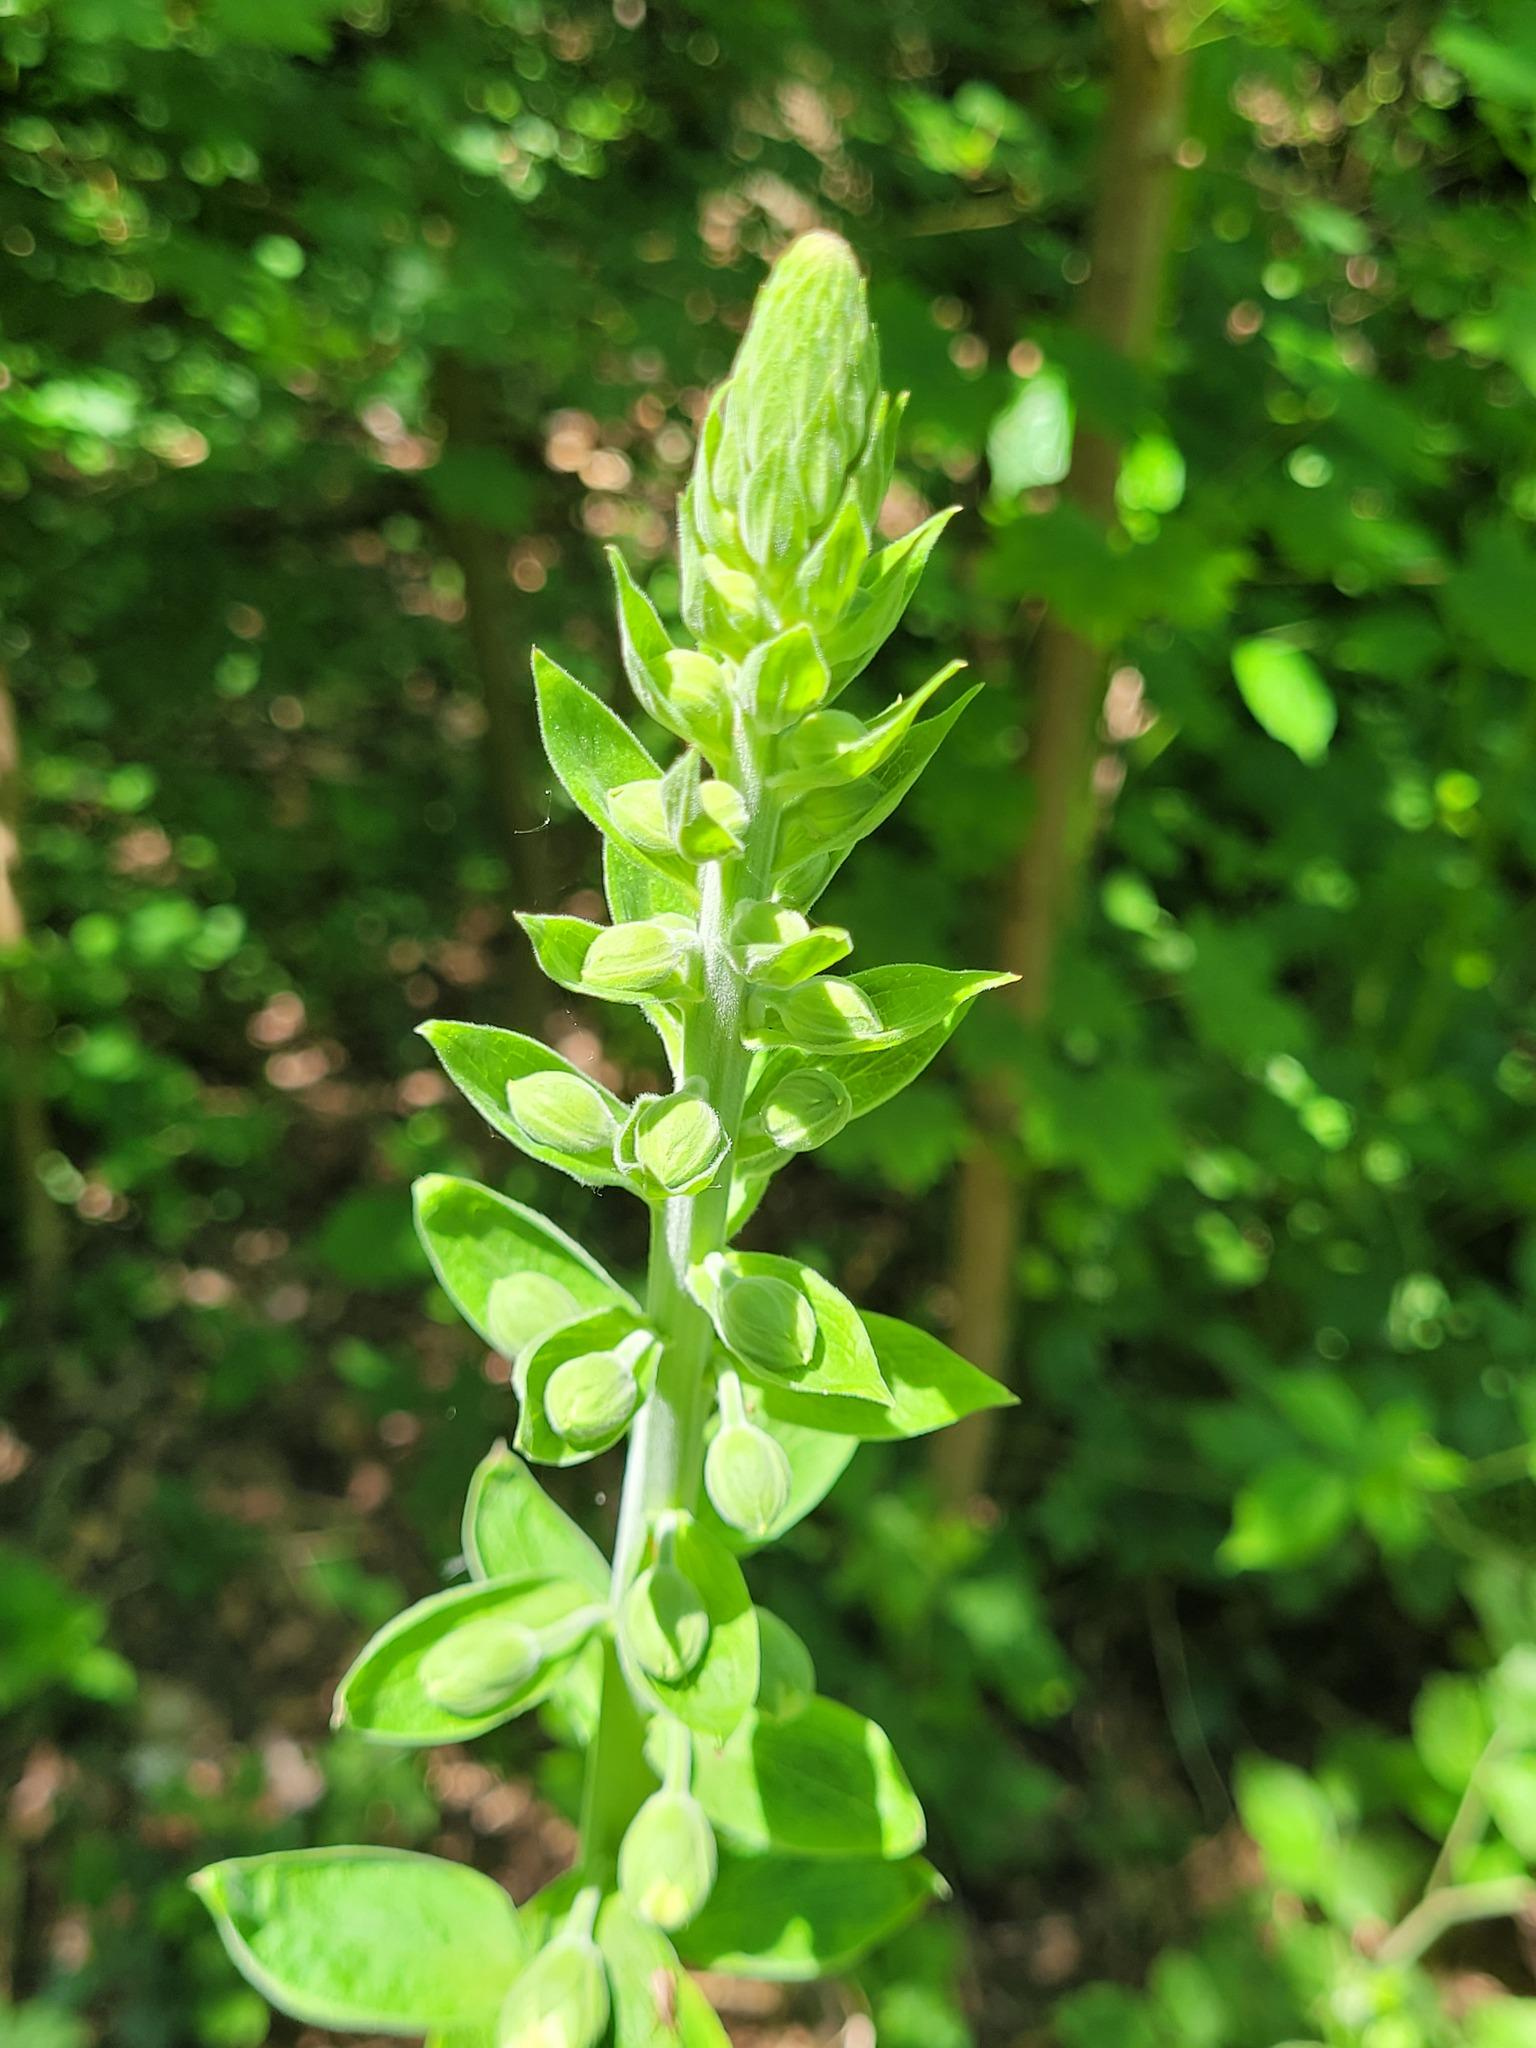Digitalis L: (194, 231, 1052, 2032)
